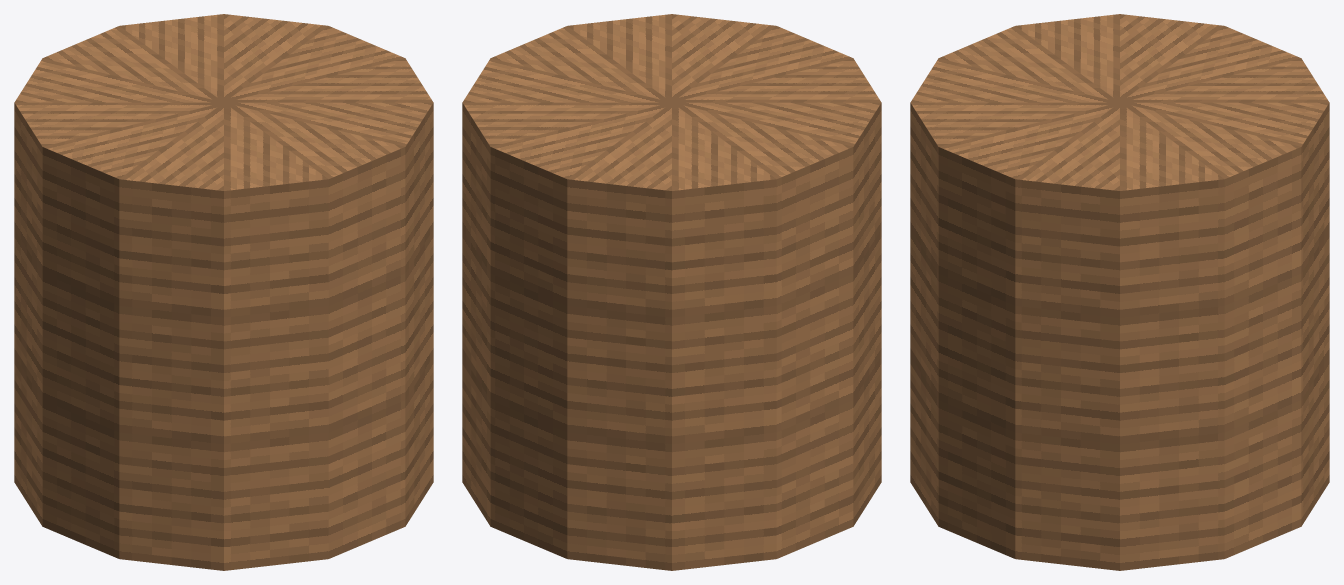
Rendered from cylinder_rammed_earth.glb.
The picture shows the model from 3 angles, left to right: view 1: azimuth 30°, elevation 25°; view 2: azimuth 150°, elevation 25°; view 3: azimuth 270°, elevation 25°; orthographic projection.
Visible parts, largest first — view 1: cylinder_rammed_earth; view 2: cylinder_rammed_earth; view 3: cylinder_rammed_earth.
Part boxes in pixels (x1,y1,x2,y2): cylinder_rammed_earth: (14,14,433,570); cylinder_rammed_earth: (462,14,881,570); cylinder_rammed_earth: (910,14,1329,570).
Bounding box in the file's own units: 1 × 1 × 1.
Materials: 1 (1 with a texture image).
